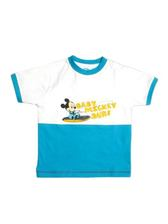clothoes: (10, 56, 159, 183)
